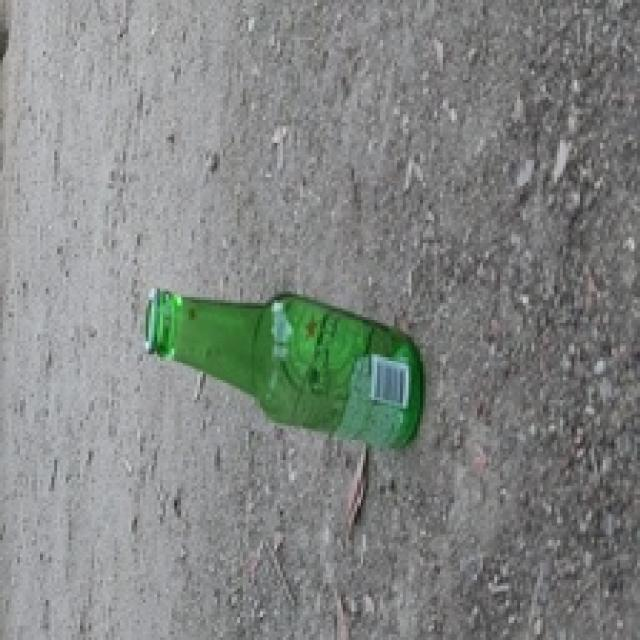Glass: (140, 284, 428, 453)
